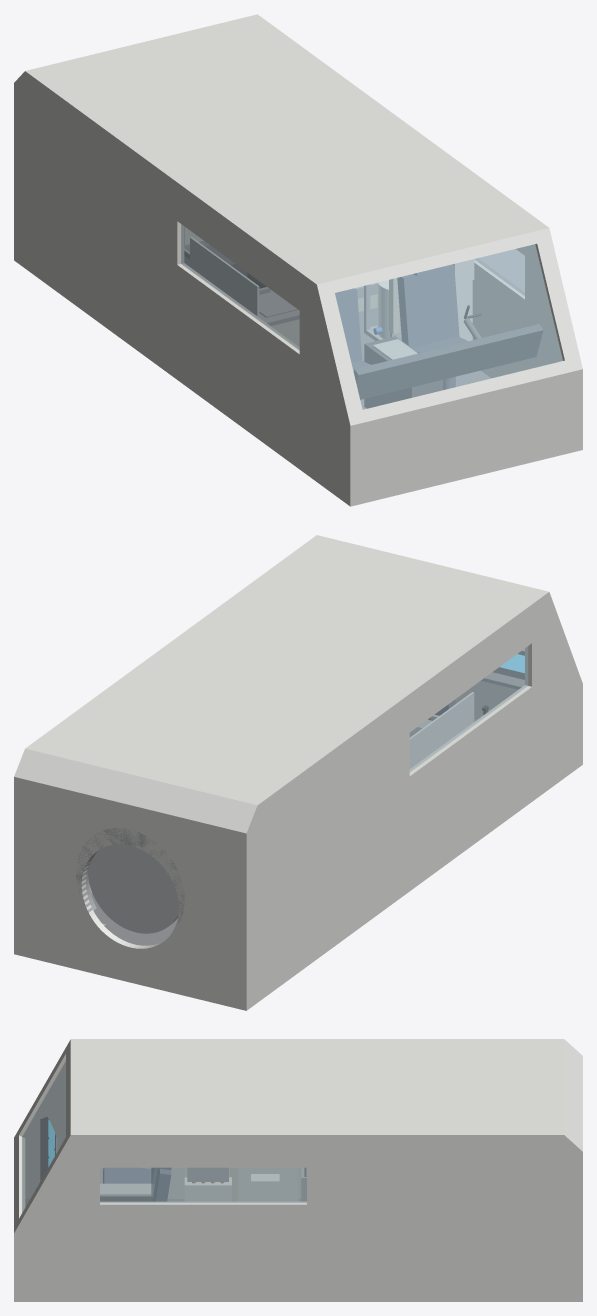
The model's file is rover03_pressurised_rover_interior.glb.
3 renders of one model, top to bottom at view 1: azimuth 30°, elevation 25°; view 2: azimuth 150°, elevation 25°; view 3: azimuth 270°, elevation 25°, orthographic. The views are drawn at different scales.
Visible parts, largest first — view 1: pressure_vessel, window_glass_inner, dash_panel, seat_1, eq37_1_splashback, seat_2, centre_console, deck_floor, eq22_1_body, eq11_1_tank; view 2: pressure_vessel, hatch_door_1, window_glass_inner, eq37_1_splashback, hatch_tunnel_1, deck_floor; view 3: pressure_vessel, window_glass_inner, eq37_1_doors, eq22_1_control_box, seat_2, eq12_1_body, centre_console_switches, eq06_1_enclosure, dash_panel, seat_1, centre_console.
Boxes of the visible parts, box(x1,y1,x2,y2) form: pressure_vessel: box(14, 14, 582, 506); window_glass_inner: box(181, 224, 562, 409); dash_panel: box(353, 324, 543, 399); seat_1: box(397, 264, 467, 389); eq37_1_splashback: box(190, 237, 259, 316); seat_2: box(335, 288, 370, 371); centre_console: box(364, 336, 443, 408); deck_floor: box(184, 241, 490, 409); eq22_1_body: box(455, 280, 472, 340); eq11_1_tank: box(377, 280, 401, 340); pressure_vessel: box(14, 535, 582, 1010); hatch_door_1: box(88, 844, 178, 933); window_glass_inner: box(409, 646, 527, 771); eq37_1_splashback: box(409, 692, 474, 768); hatch_tunnel_1: box(75, 828, 184, 931); deck_floor: box(91, 892, 177, 945); pressure_vessel: box(14, 1039, 582, 1301); window_glass_inner: box(22, 1061, 306, 1212); eq37_1_doors: box(186, 1167, 296, 1201); eq22_1_control_box: box(184, 1177, 231, 1201); seat_2: box(103, 1167, 157, 1184); eq12_1_body: box(251, 1174, 279, 1201); centre_console_switches: box(100, 1183, 151, 1195); eq06_1_enclosure: box(187, 1167, 228, 1181); dash_panel: box(40, 1117, 55, 1180); seat_1: box(152, 1167, 171, 1201); centre_console: box(100, 1184, 154, 1201).
Size of the model in its own units: 2.39 by 1.94 by 5.99.
